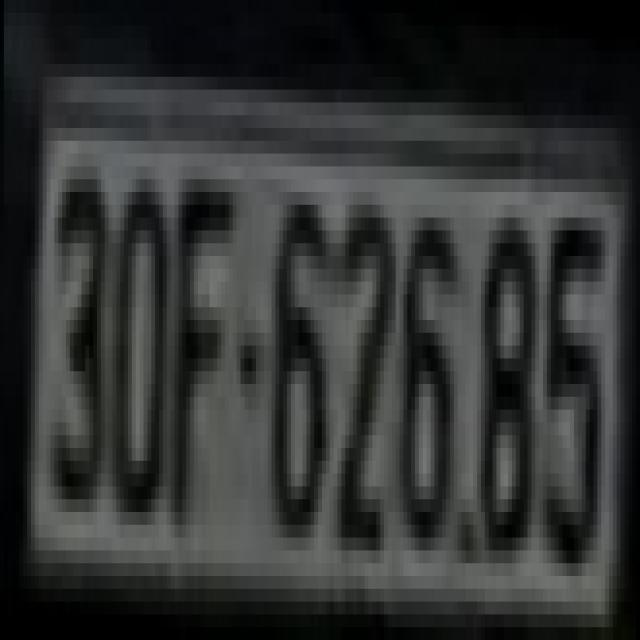0: (112, 173, 167, 518)
2: (337, 198, 392, 557)
3: (48, 166, 106, 512)
5: (545, 205, 607, 563)
6: (273, 192, 328, 538), (401, 211, 456, 544)
8: (481, 211, 535, 557)
F: (170, 173, 232, 544)
